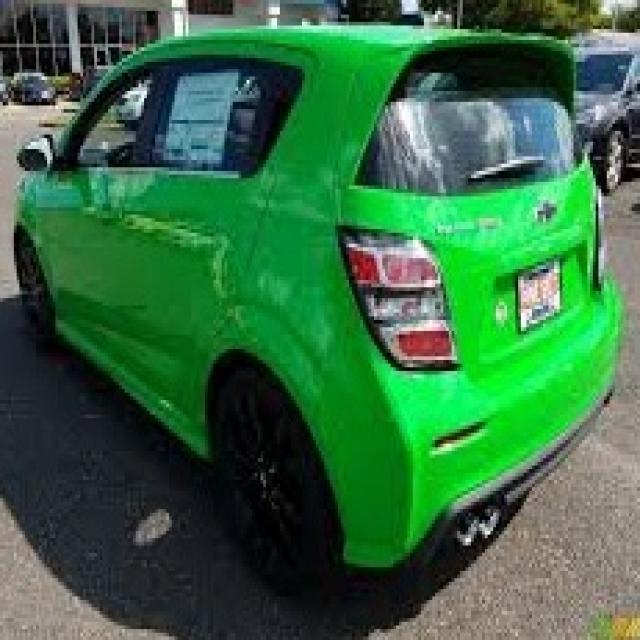green: (14, 22, 623, 603)
